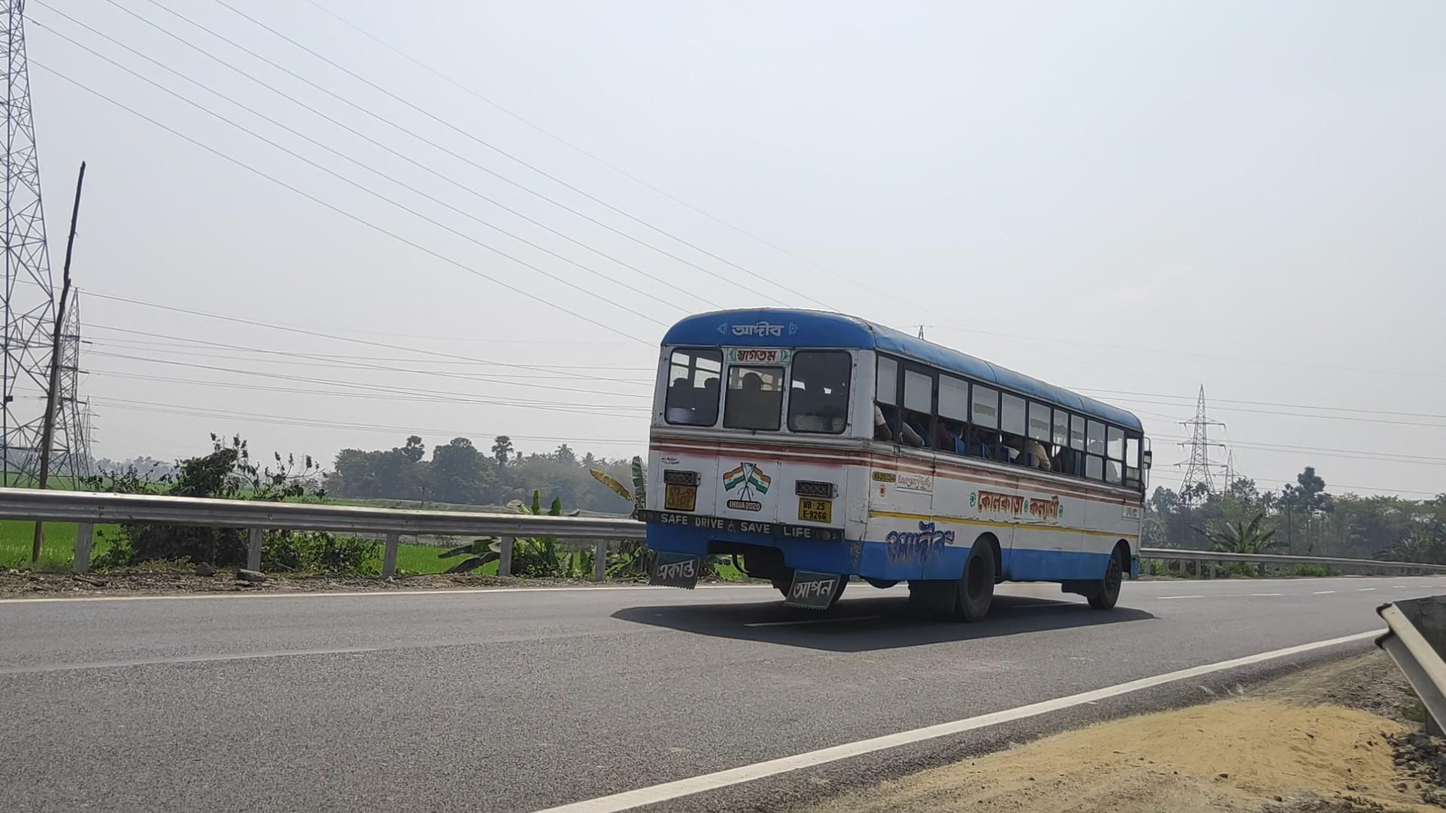Bus: (638, 307, 1152, 621)
